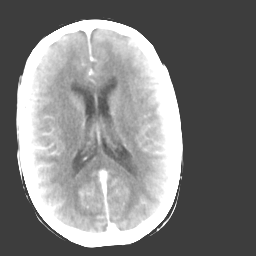ischemic: (58, 95, 82, 157)
